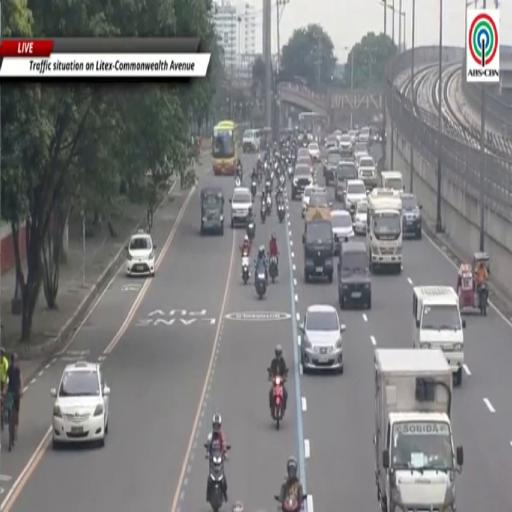bus: (212, 121, 241, 175), (299, 112, 323, 135)
car: (51, 361, 110, 447), (300, 304, 345, 373), (338, 242, 371, 309), (126, 229, 155, 277), (331, 211, 354, 254), (230, 187, 252, 228), (402, 194, 422, 239), (335, 160, 357, 200), (345, 180, 367, 216), (301, 185, 324, 217), (292, 165, 313, 200), (358, 156, 378, 189), (324, 149, 341, 186), (306, 188, 331, 211), (354, 200, 368, 234), (242, 129, 260, 153), (339, 135, 353, 155), (354, 150, 369, 166), (309, 142, 320, 162), (358, 127, 370, 143), (296, 155, 312, 167), (325, 135, 338, 149), (354, 141, 368, 153), (297, 148, 310, 158), (349, 131, 358, 143)
motorcycle: (206, 448, 224, 511), (268, 368, 285, 429), (275, 494, 306, 511), (477, 284, 488, 315), (255, 269, 266, 299), (242, 253, 250, 284), (269, 256, 278, 282), (246, 220, 255, 242), (277, 202, 285, 222), (266, 195, 272, 215), (251, 180, 257, 198), (261, 202, 266, 223), (265, 179, 272, 194), (288, 166, 294, 180), (235, 176, 241, 187), (280, 174, 284, 187)
tricycle: (457, 253, 488, 315)
truck: (374, 349, 463, 511), (367, 189, 402, 274), (303, 206, 334, 282)
